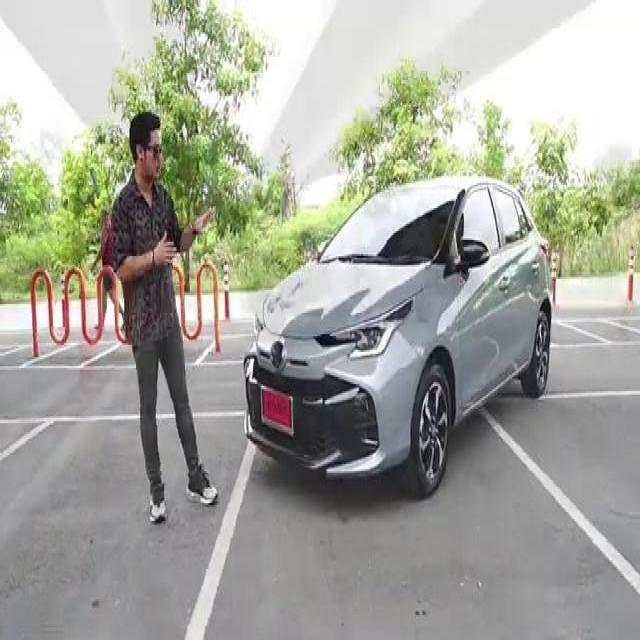Hatchback: (243, 176, 553, 498)
